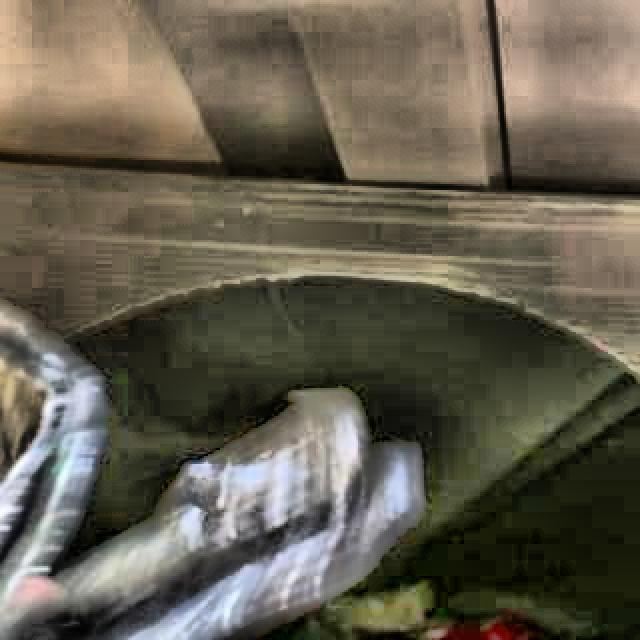metal: (0, 305, 421, 640)
